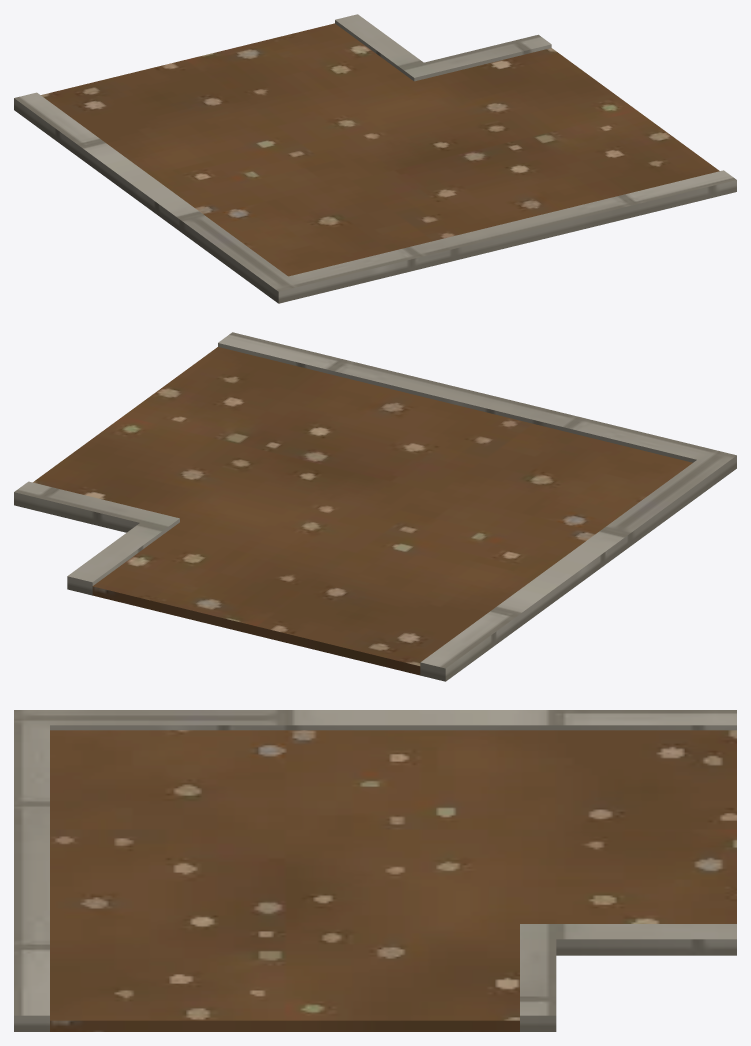
The model's file is tile.corner.glb.
3 renders of one model, top to bottom at view 1: azimuth 30°, elevation 25°; view 2: azimuth 150°, elevation 25°; view 3: azimuth 270°, elevation 25°, orthographic. The views are drawn at different scales.
Parts seen in each view (by area): view 1: path.tile.corner; view 2: path.tile.corner; view 3: path.tile.corner.
Boxes of the visible parts, x1,y1,x2,y2 form: path.tile.corner: (14,14,736,303); path.tile.corner: (14,332,736,681); path.tile.corner: (14,710,736,1031).
Size of the model in its own units: 0.8 by 0.02 by 0.8.
Materials: 2 (2 with a texture image).
